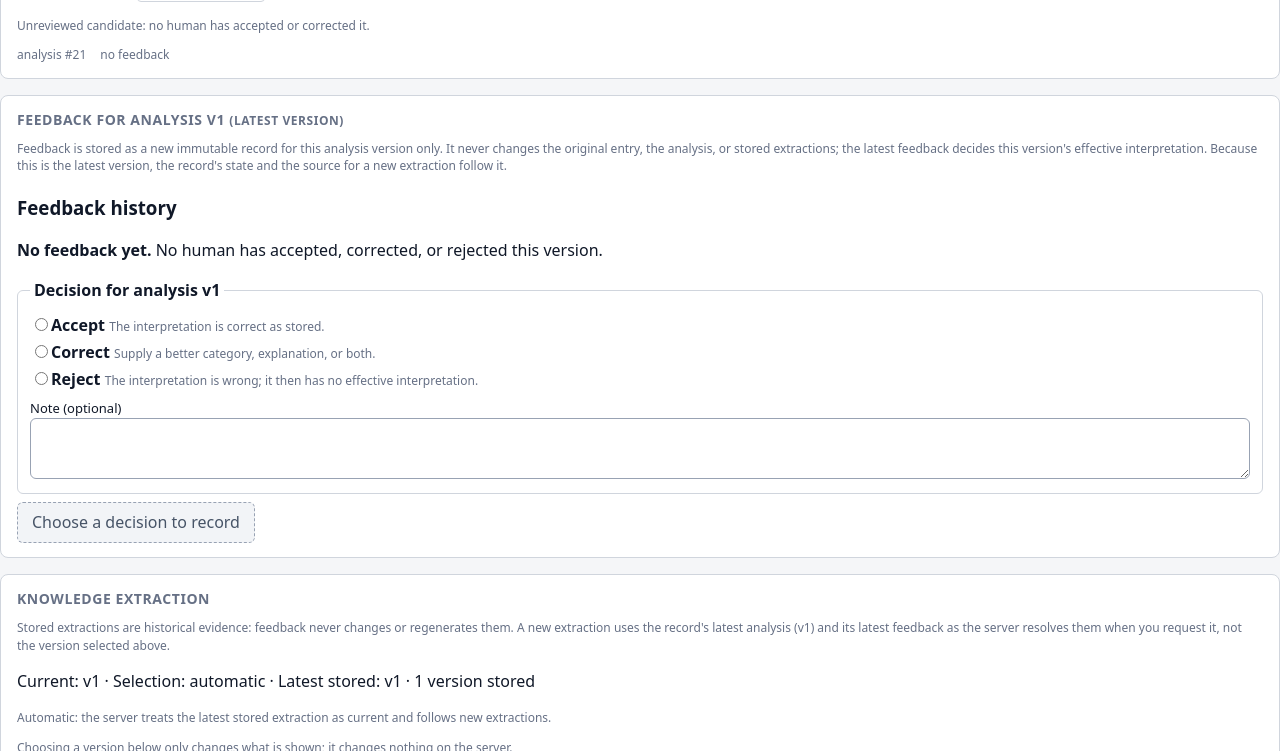
Record feedback decisions › sends only the corrected fields the reviewer supplied
The width and height of the screenshot is (1280, 751).
(page scrolled)
Expected: the text "No feedback yet." is shown, [17, 239, 152, 261]
Click the radio button labelled "Correct Supply a better category, explanation, or both." at coordinates (42, 352), box [35, 345, 48, 358]
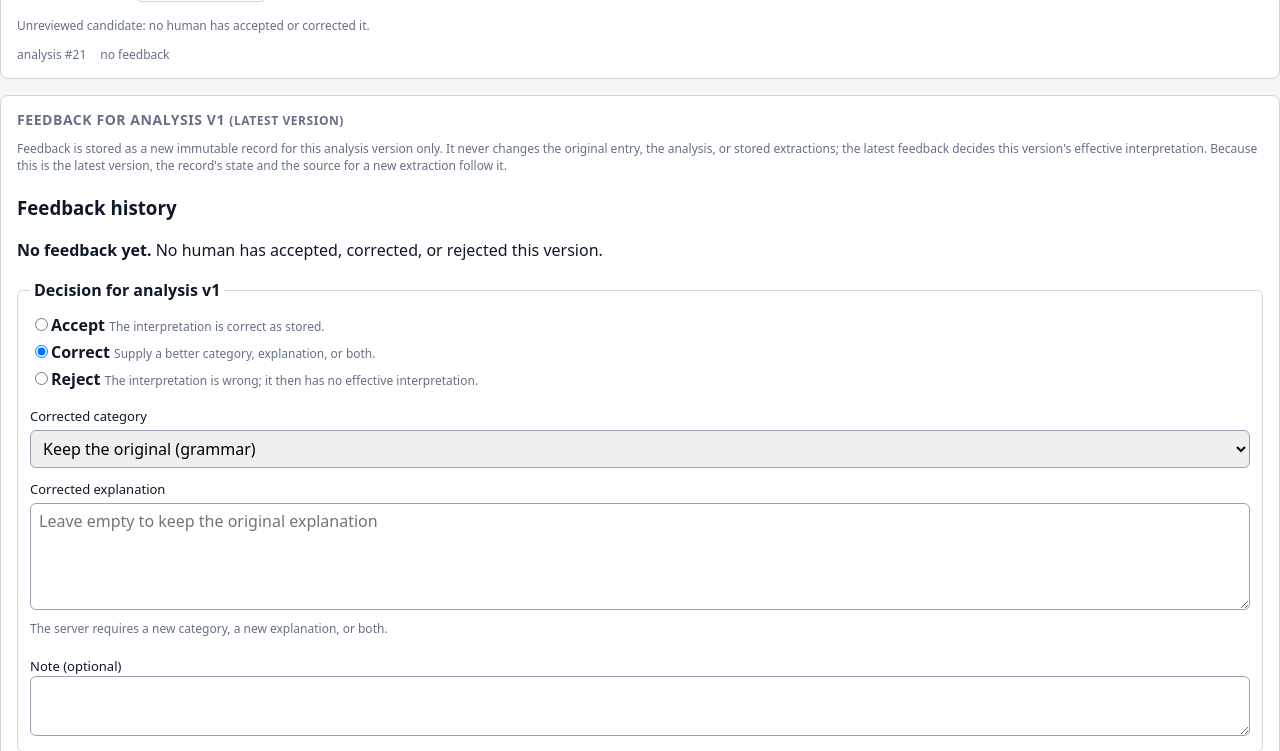
Expected: the dropdown labelled "Corrected category" shows "Keep the original (grammar)", [30, 430, 1250, 468]
Type "Une meilleure explication." into the text box labelled "Corrected explanation" at coordinates (640, 556), box [30, 503, 1250, 610]
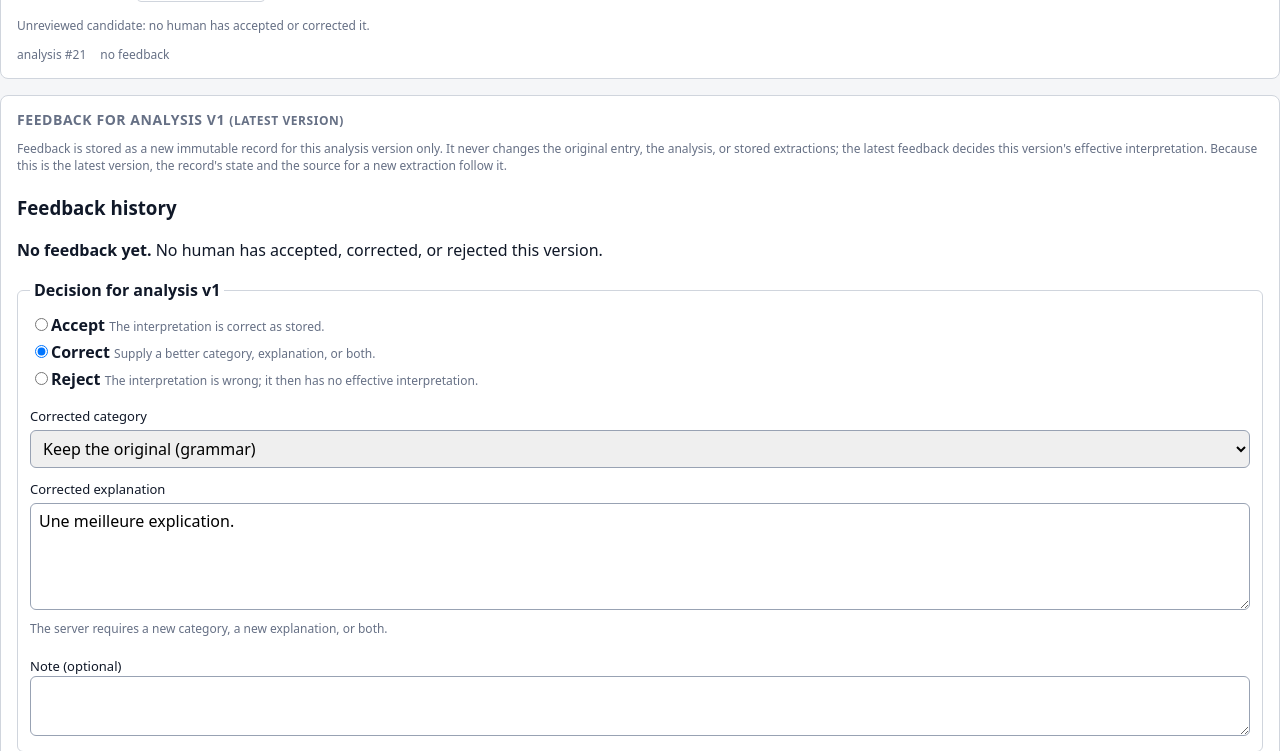
Type "checked in a grammar book" into the text box labelled "Note (optional)" at coordinates (640, 706), box [30, 676, 1250, 736]
(page scrolled)
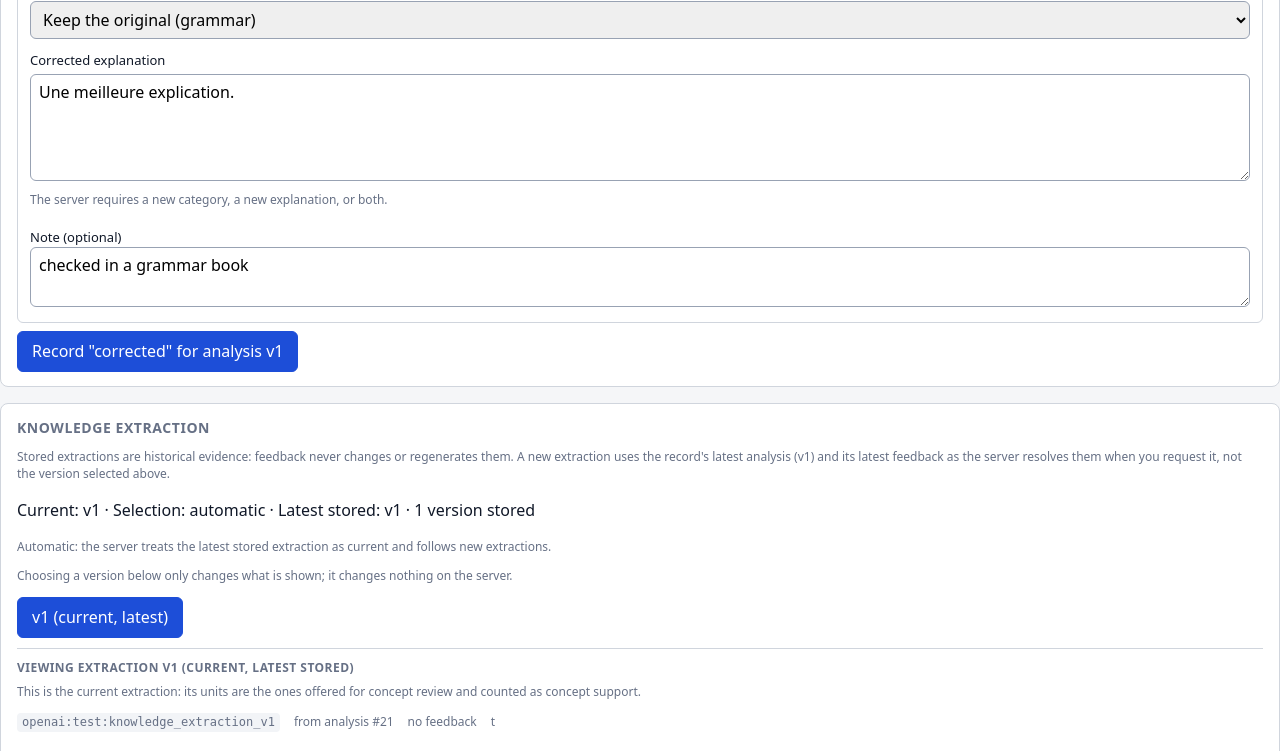
Click the button "Record \"corrected\" for analysis v1" at coordinates (158, 351), box [17, 331, 298, 372]
(page scrolled)
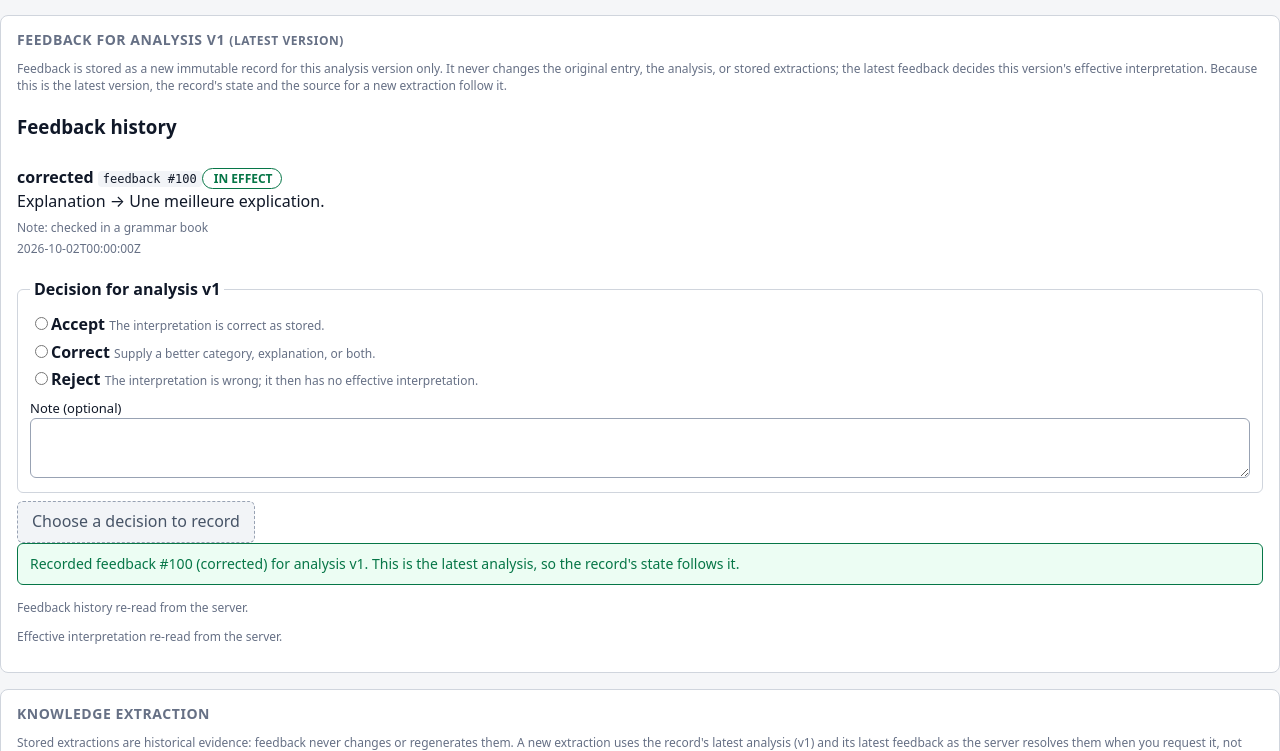
Expected: the radio button labelled "Correct Supply a better category, explanation, or both." is not checked, [35, 345, 48, 358]
Expected: the 1st message is shown, [17, 543, 1263, 585]
